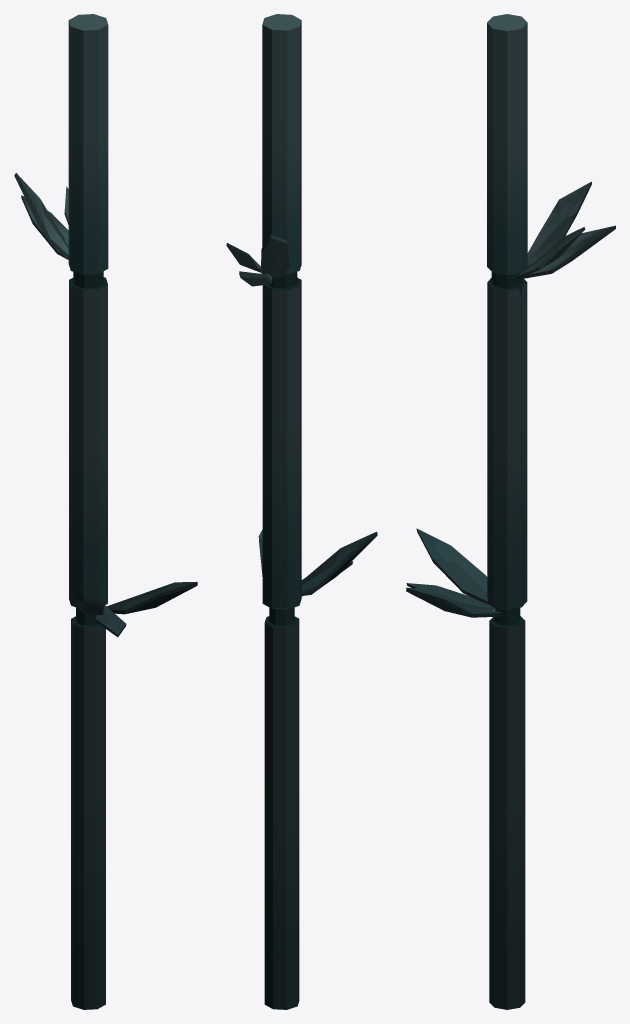
File: Bambu 3.obj
3 renders of one model, left to right at view 1: azimuth 30°, elevation 25°; view 2: azimuth 150°, elevation 25°; view 3: azimuth 270°, elevation 25°, orthographic.
Visible parts, largest first — view 1: Bambu 3; view 2: Bambu 3; view 3: Bambu 3.
Part boxes in pixels (x1,y1,x2,y2): Bambu 3: (14,14,197,1009); Bambu 3: (226,14,377,1009); Bambu 3: (406,14,615,1009).
Size of the model in its own units: 0.2374 by 2.04 by 0.3959.
